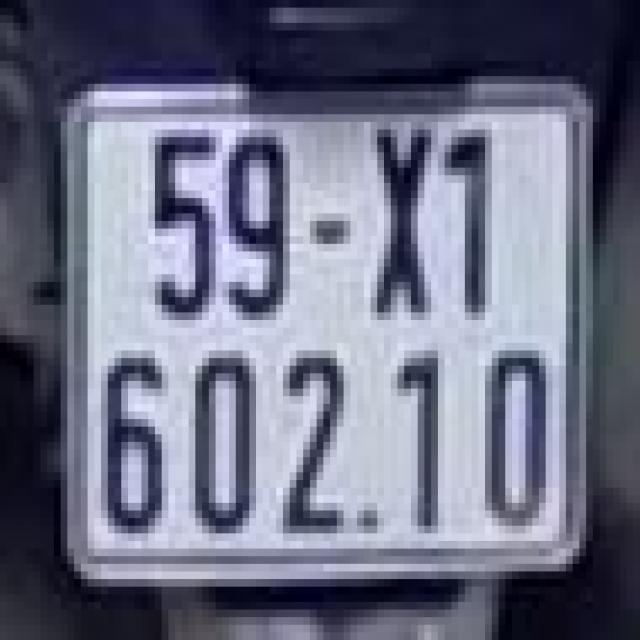0: (185, 347, 266, 537), (478, 347, 559, 537)
1: (384, 343, 445, 533), (448, 114, 502, 320)
2: (270, 339, 350, 537)
5: (131, 126, 219, 331)
6: (88, 343, 175, 533)
9: (219, 126, 300, 324)
X: (361, 114, 442, 328)
